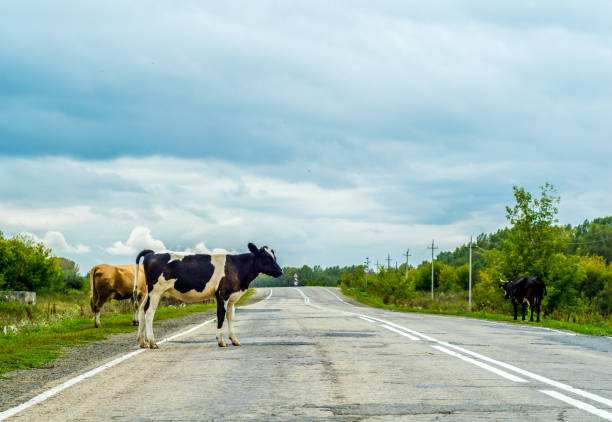inek: (133, 243, 288, 346), (87, 263, 151, 327), (494, 278, 552, 321)
